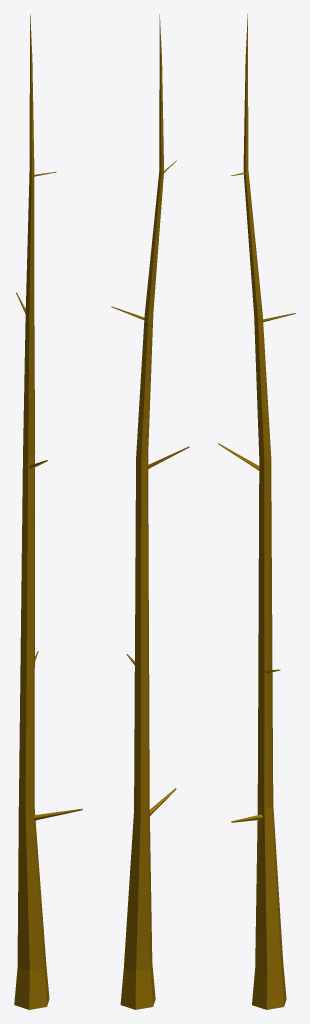
File: Vegetation_Modular_Tree_Trunk_Fir_03.fbx
3 views of the same model, side by side, from view 1: azimuth 90°, elevation 25°; view 2: azimuth 150°, elevation 25°; view 3: azimuth 330°, elevation 25° (orthographic).
Visible parts, largest first — view 1: Vegetation_Modular_Tree_Trunk_Fir_03; view 2: Vegetation_Modular_Tree_Trunk_Fir_03; view 3: Vegetation_Modular_Tree_Trunk_Fir_03.
Part boxes in pixels (bbox=[...]): Vegetation_Modular_Tree_Trunk_Fir_03: bbox=[14, 14, 82, 1009]; Vegetation_Modular_Tree_Trunk_Fir_03: bbox=[111, 14, 189, 1009]; Vegetation_Modular_Tree_Trunk_Fir_03: bbox=[218, 14, 295, 1009].
Bounding box in the file's own units: 42.73 × 642 × 39.9.
